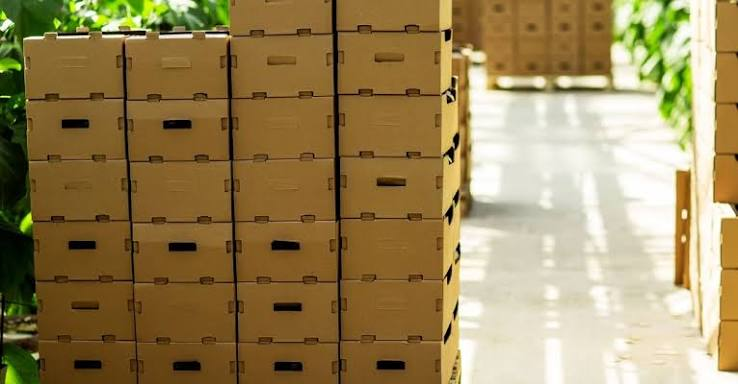box: (130, 277, 246, 335), (342, 282, 462, 337), (231, 37, 332, 101), (342, 96, 446, 158), (228, 101, 343, 156), (337, 31, 438, 92), (126, 96, 227, 156), (132, 163, 228, 226), (342, 159, 444, 218), (125, 37, 230, 93), (236, 159, 332, 220), (241, 276, 338, 336), (31, 96, 122, 159), (25, 163, 133, 215), (28, 34, 116, 97), (135, 219, 223, 281), (237, 222, 329, 278), (38, 219, 132, 272), (342, 223, 436, 276), (38, 280, 132, 332), (146, 339, 236, 384), (336, 337, 438, 376), (245, 343, 338, 384), (47, 341, 133, 383)
